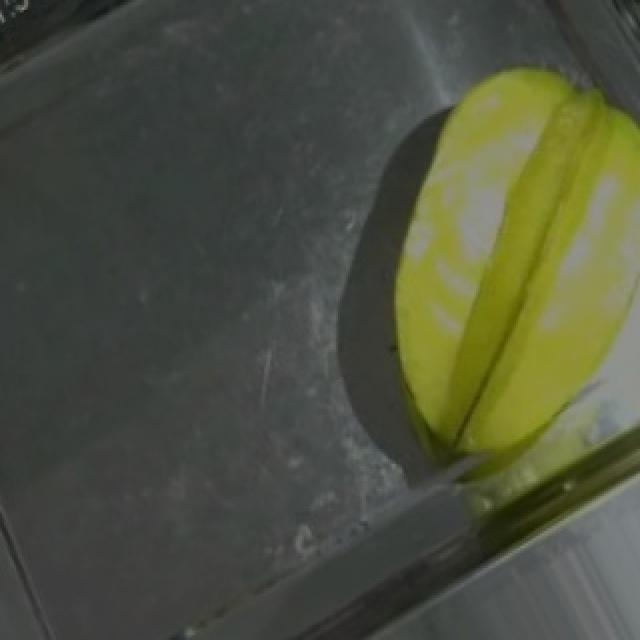fruit: (362, 27, 640, 427)
